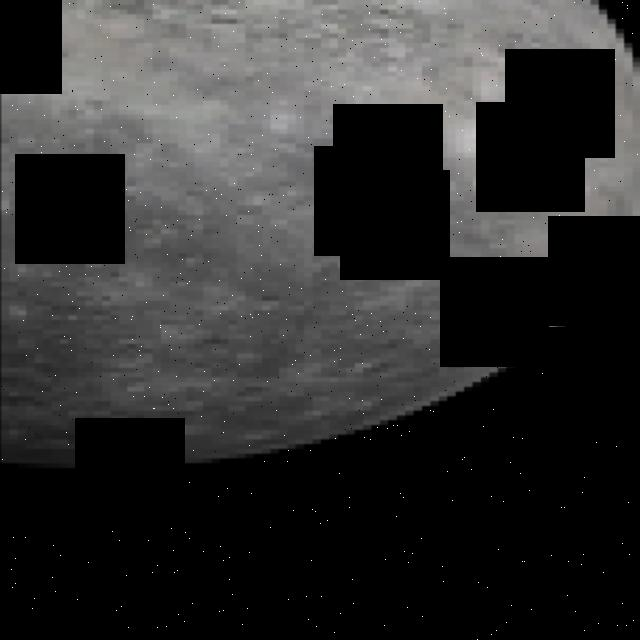Mercury: (0, 0, 640, 473)
